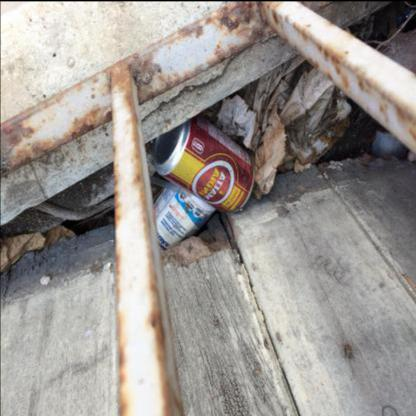Bottle cap: (154, 187, 216, 252)
Can: (152, 113, 254, 212)
Other litter: (216, 53, 309, 198), (279, 66, 351, 164), (0, 224, 74, 272)
Straw: (150, 174, 192, 197)
